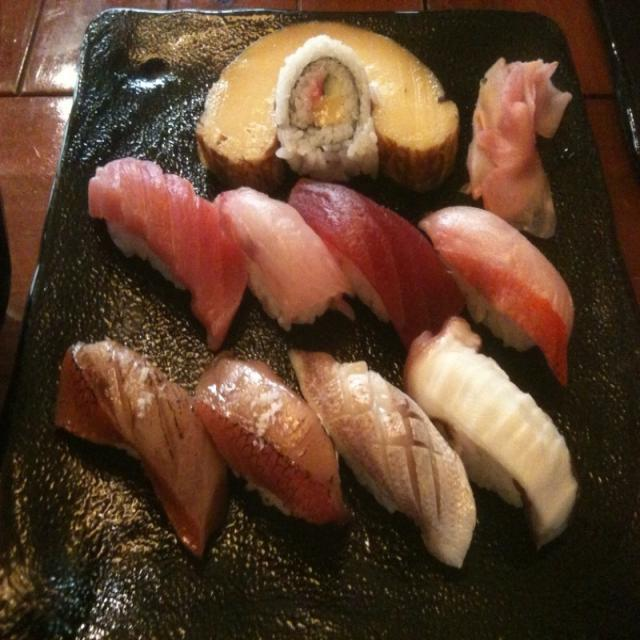Sushi: (83, 39, 588, 532)
